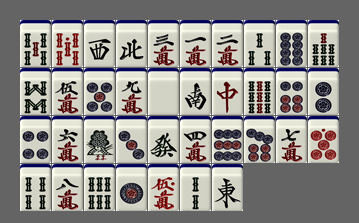0m: (148, 164, 179, 211)
0p: (308, 116, 339, 163)
0s: (52, 20, 83, 67)
1m: (180, 20, 211, 67)
1p: (116, 164, 147, 211)
1s: (84, 116, 115, 163)
1z: (212, 164, 243, 211)
2m: (212, 20, 243, 67)
2p: (308, 68, 339, 115)
2s: (180, 164, 211, 211)
2z: (180, 68, 211, 115)
3m: (148, 20, 179, 67)
3p: (116, 116, 147, 163)
3s: (244, 20, 275, 67)
3z: (84, 20, 115, 67)
4m: (180, 116, 211, 163)
4p: (20, 116, 51, 163)
4s: (20, 164, 51, 211)
4z: (116, 20, 147, 67)
5m: (52, 68, 83, 115)
5p: (84, 68, 115, 115)
5s: (20, 20, 51, 67)
5z: (148, 68, 179, 115)
6m: (52, 116, 83, 163)
6p: (276, 68, 307, 115)
6s: (84, 164, 115, 211)
6z: (148, 116, 179, 163)
7m: (276, 116, 307, 163)
7p: (244, 116, 275, 163)
7s: (308, 20, 339, 67)
7z: (212, 68, 243, 115)
8m: (52, 164, 83, 211)
8p: (276, 20, 307, 67)
8s: (20, 68, 51, 115)
9m: (116, 68, 147, 115)
9p: (212, 116, 243, 163)
9s: (244, 68, 275, 115)
